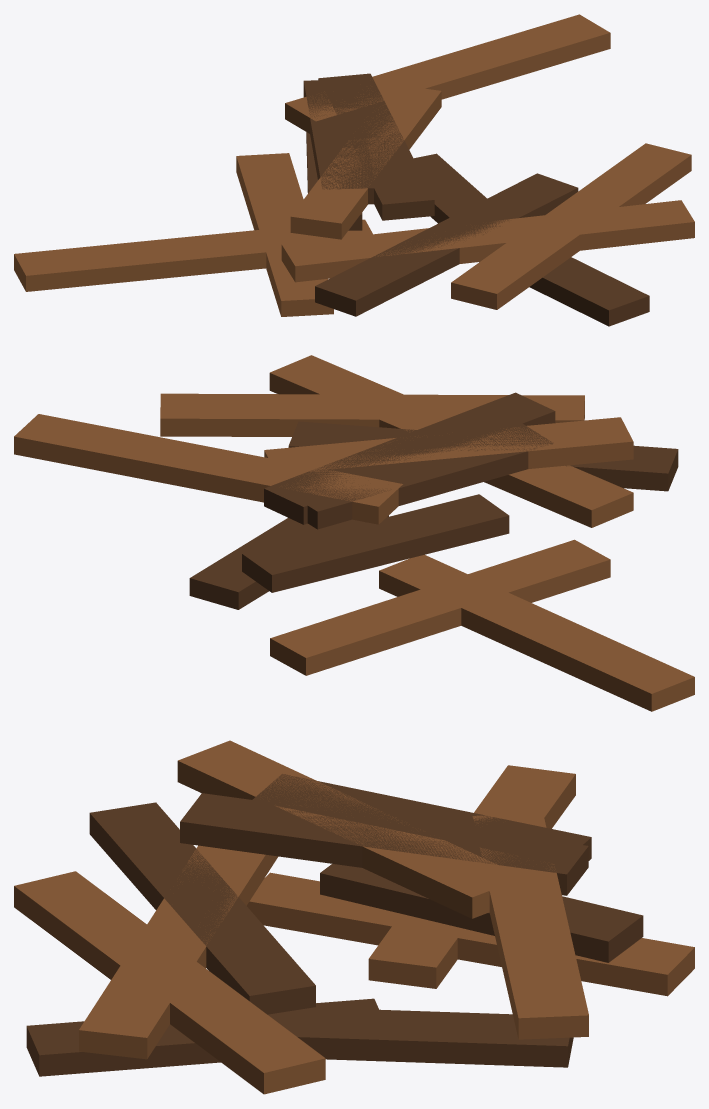
File: prop_tumpukan_kayu.glb
3 views of the same model, one above another, from view 1: azimuth 30°, elevation 25°; view 2: azimuth 150°, elevation 25°; view 3: azimuth 270°, elevation 25° (orthographic). The views are drawn at different scales.
Parts seen in each view (by area): view 1: tumpukan_kayu; view 2: tumpukan_kayu; view 3: tumpukan_kayu.
Part boxes in pixels (box(x1,y1,x2,y2)): tumpukan_kayu: box(14, 14, 694, 326); tumpukan_kayu: box(14, 355, 694, 711); tumpukan_kayu: box(14, 740, 694, 1094).
Bounding box in the file's own units: 2.29 × 0.42 × 1.73.
